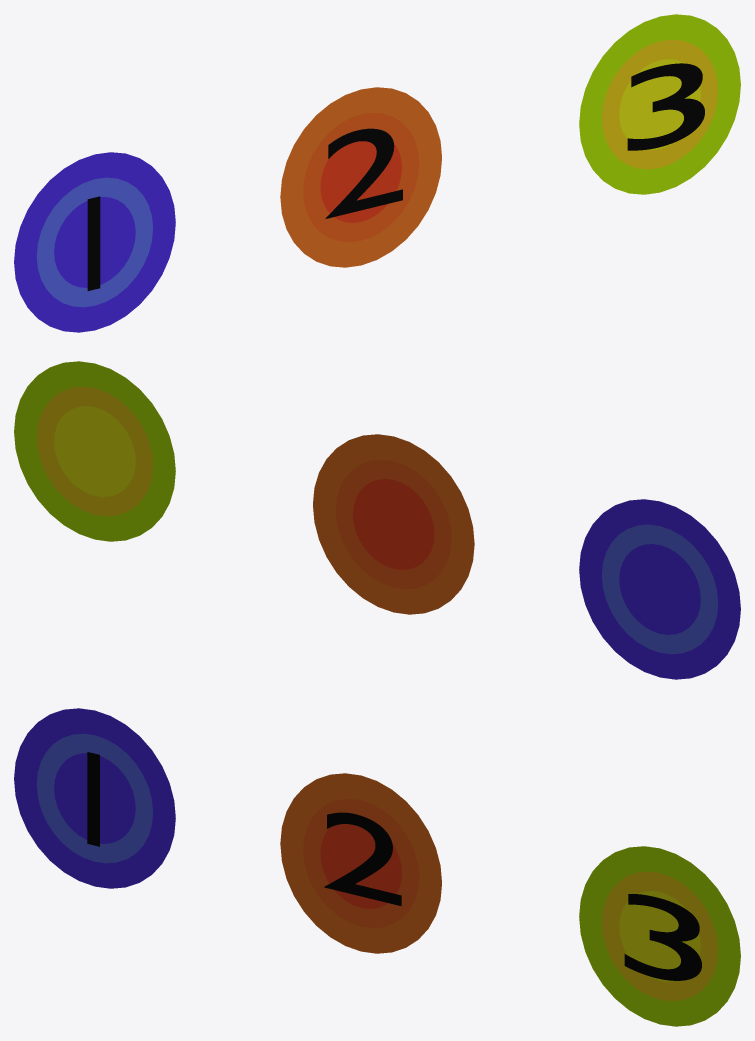
File: TARGET.glb
3 renders of one model, top to bottom at view 1: azimuth 30°, elevation 25°; view 2: azimuth 150°, elevation 25°; view 3: azimuth 330°, elevation 25°, orthographic.
Visible parts, largest first — view 1: Circle, Circle.001, Circle.002, Text.002, Text.001; view 2: Circle, Circle.002, Circle.001; view 3: Circle, Circle.001, Circle.002, Text.002, Text.001.
Part boxes in pixels (<box>): Circle: <box>14,152,175,332</box>; Circle.001: <box>280,87,441,267</box>; Circle.002: <box>579,14,740,194</box>; Text.002: <box>627,63,704,150</box>; Text.001: <box>325,128,402,218</box>; Circle: <box>579,499,740,679</box>; Circle.002: <box>14,361,175,541</box>; Circle.001: <box>313,434,474,614</box>; Circle: <box>14,708,175,888</box>; Circle.001: <box>280,773,441,953</box>; Circle.002: <box>579,846,740,1026</box>; Text.002: <box>624,894,701,980</box>; Text.001: <box>324,812,401,906</box>.
Size of the model in its own units: 28.2 by 6.53 by 0.1018.
